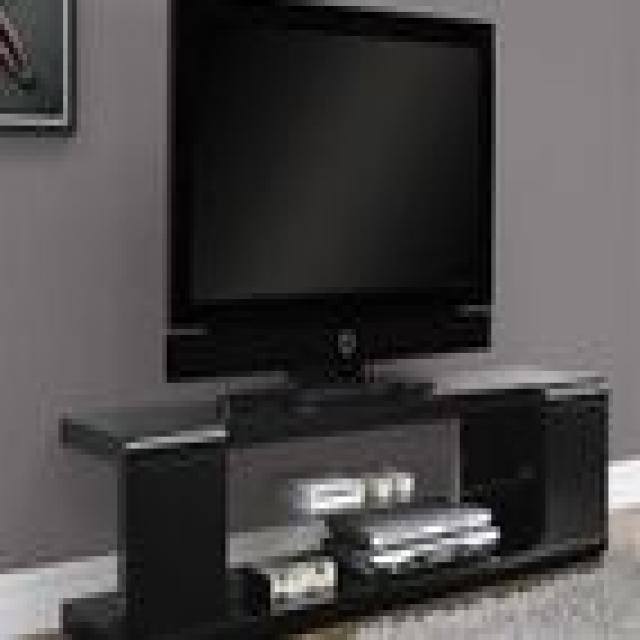others: (158, 6, 532, 395)
